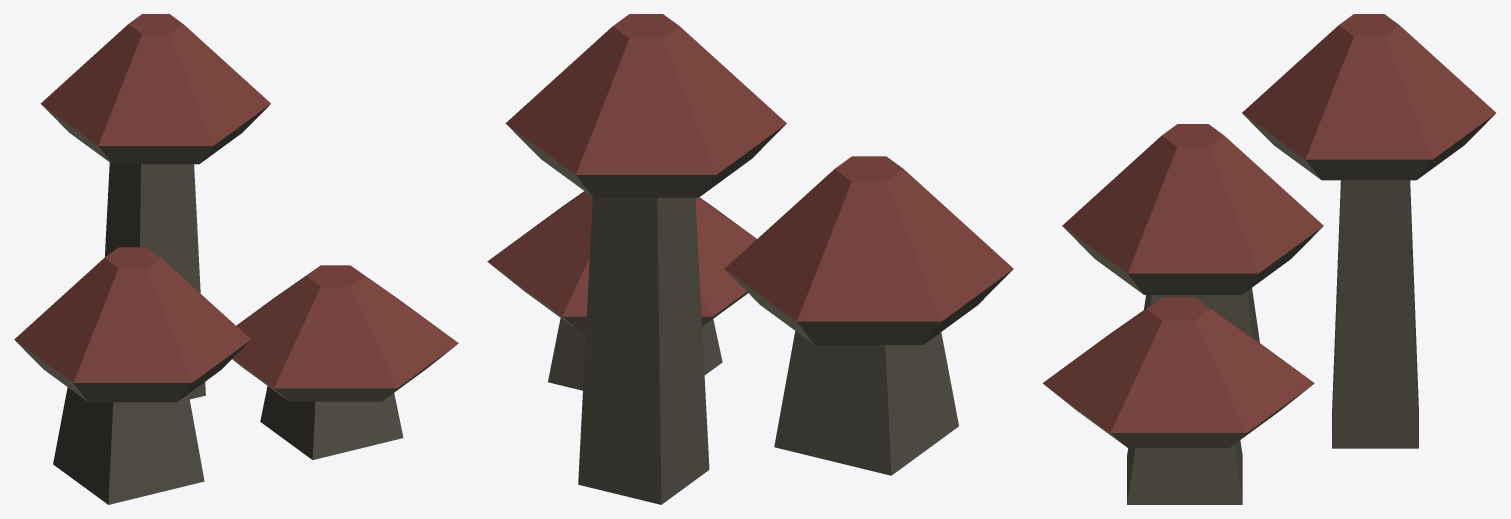
The model's file is pilz_rot_gruppe.glb.
3 views of the same model, side by side, from view 1: azimuth 30°, elevation 25°; view 2: azimuth 150°, elevation 25°; view 3: azimuth 270°, elevation 25° (orthographic). The views are drawn at different scales.
Parts seen in each view (by area): view 1: pilz_rot_gruppe; view 2: pilz_rot_gruppe; view 3: pilz_rot_gruppe.
Boxes of the visible parts, x1,y1,x2,y2 form: pilz_rot_gruppe: (14, 14, 458, 504); pilz_rot_gruppe: (487, 14, 1013, 504); pilz_rot_gruppe: (1042, 14, 1495, 504).
Size of the model in its own units: 0.2153 by 0.2 by 0.203.
